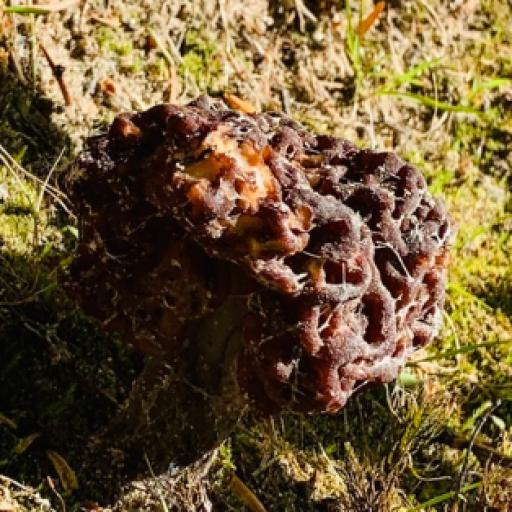mushroom: (22, 40, 493, 484)
